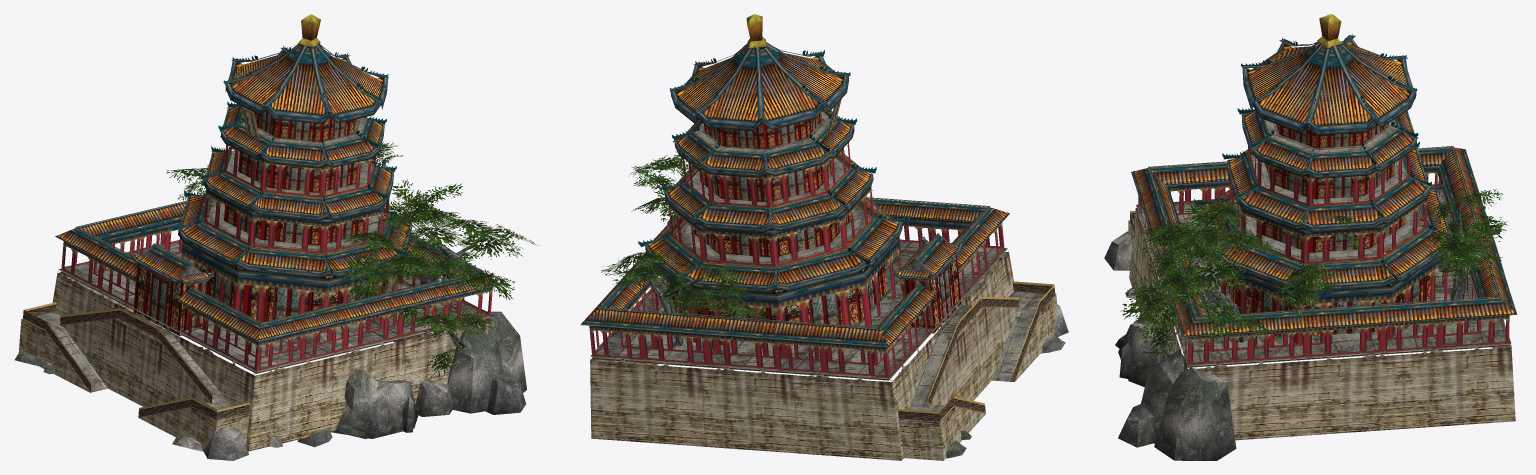
Rendered from summer_palace.fbx.
3 views of the same model, side by side, from view 1: azimuth 30°, elevation 25°; view 2: azimuth 150°, elevation 25°; view 3: azimuth 270°, elevation 25° (orthographic). The views are drawn at different scales.
Parts seen in each view (by area): view 1: Object03, Object01, Object04, Object02; view 2: Object03, Object01, Object02, Object04; view 3: Object03, Object01, Object02, Object04.
Part boxes in pixels (<box>): Object03: <box>18,44,501,451</box>; Object01: <box>23,14,492,419</box>; Object04: <box>14,311,526,460</box>; Object02: <box>166,142,537,379</box>; Object03: <box>580,45,1057,460</box>; Object01: <box>589,14,1055,421</box>; Object02: <box>601,151,872,346</box>; Object04: <box>945,304,1068,458</box>; Object03: <box>1128,39,1517,440</box>; Object01: <box>1130,14,1509,367</box>; Object02: <box>1120,189,1510,360</box>; Object04: <box>1104,231,1236,460</box>.
Size of the model in its own units: 16.98 by 14.08 by 13.73.
3 materials, 3 textured.
